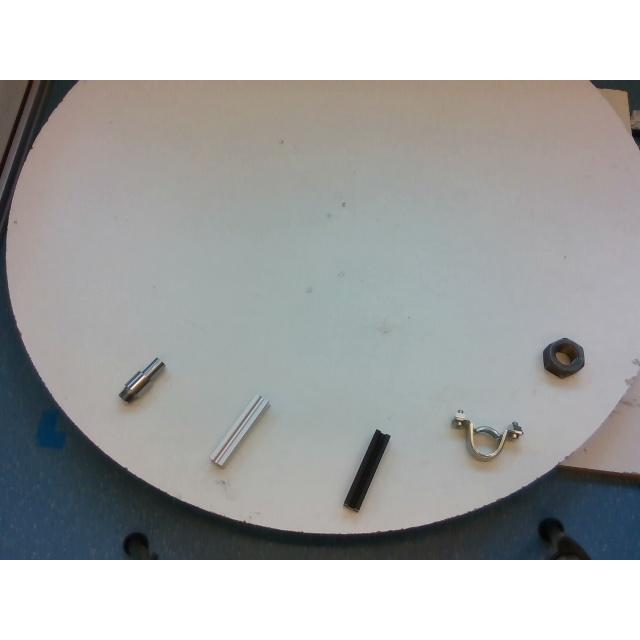Axis2: (120, 358, 164, 402)
F20_20_B: (342, 427, 391, 513)
F20_20_G: (210, 394, 268, 466)
Housing: (453, 414, 522, 458)
M30: (544, 338, 584, 376)
